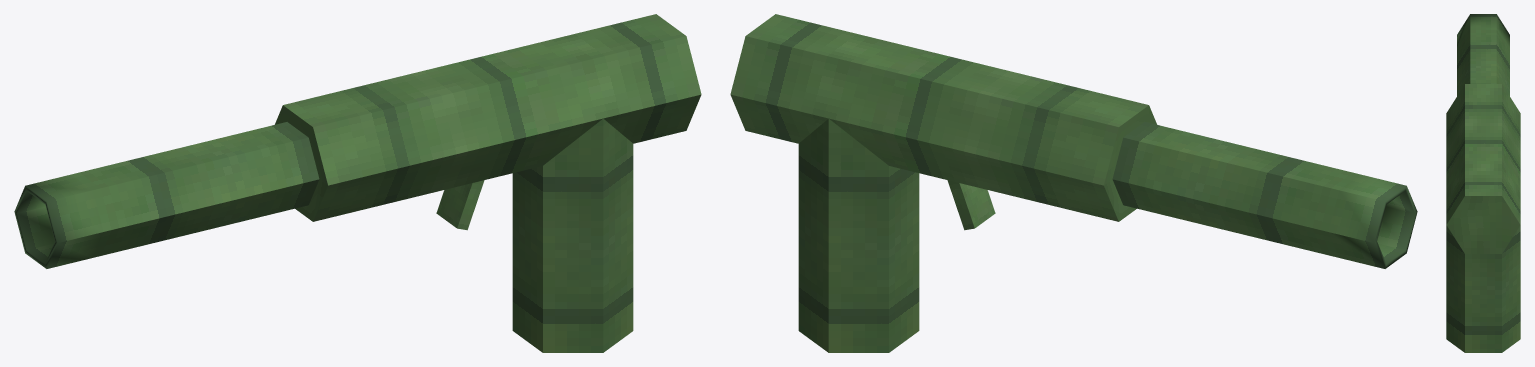
Rendered from bamboo pistol.fbx.
The picture shows the model from 3 angles, left to right: view 1: azimuth 30°, elevation 25°; view 2: azimuth 150°, elevation 25°; view 3: azimuth 270°, elevation 25°; orthographic projection. The views are drawn at different scales.
Visible parts, largest first — view 1: Circle; view 2: Circle; view 3: Circle.
Part boxes in pixels (x1=…): Circle: x1=14, y1=14, x2=701, y2=352; Circle: x1=730, y1=14, x2=1417, y2=352; Circle: x1=1446, y1=14, x2=1520, y2=352.
Size of the model in its own units: 170 by 72.12 by 28.
